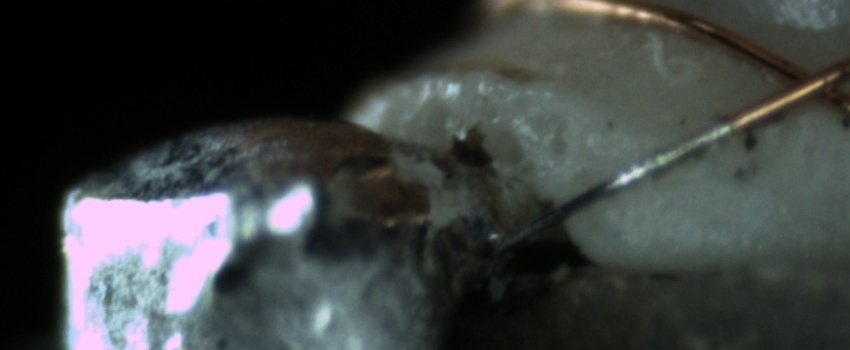CL: (756, 47, 847, 117)
TS: (499, 114, 728, 249)
TTCW: (472, 86, 767, 260)
